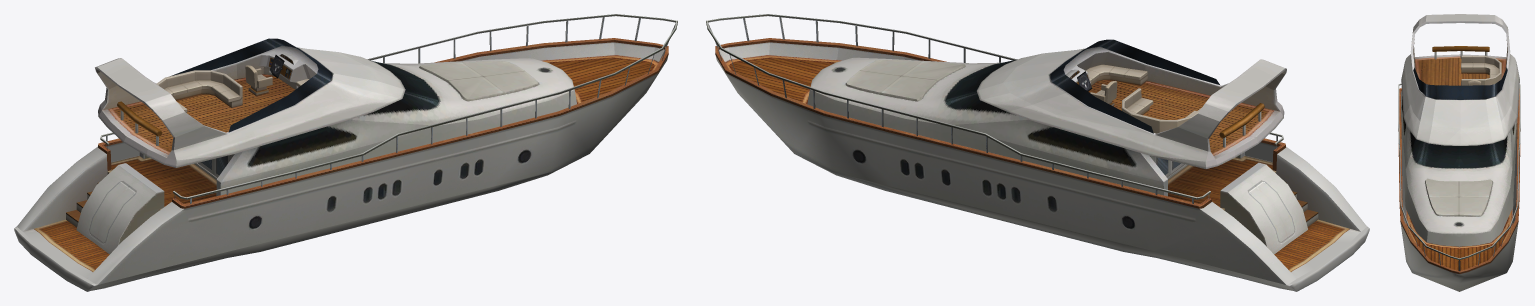
The model's file is youting.FBX.
The picture shows the model from 3 angles, left to right: view 1: azimuth 30°, elevation 25°; view 2: azimuth 150°, elevation 25°; view 3: azimuth 270°, elevation 25°; orthographic projection. The views are drawn at different scales.
Visible parts, largest first — view 1: youting; view 2: youting; view 3: youting.
Part boxes in pixels (x1,y1,x2,y2): youting: [14, 14, 677, 291]; youting: [706, 14, 1369, 291]; youting: [1398, 14, 1520, 291].
Bounding box in the file's own units: 2211 × 659 × 522.
5 materials, 5 textured.
